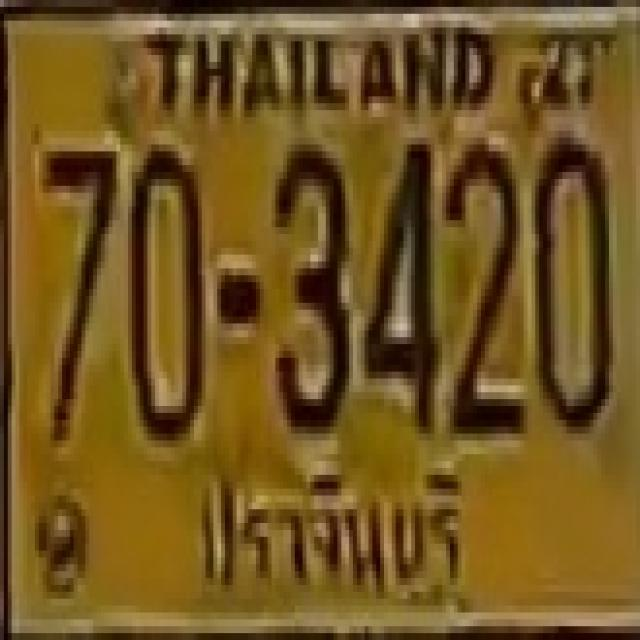0: (531, 130, 609, 427), (128, 138, 202, 434)
2: (444, 138, 518, 426)
3: (272, 138, 345, 426)
4: (361, 134, 434, 423)
7: (41, 141, 114, 437)
PRI: (189, 461, 466, 595)
